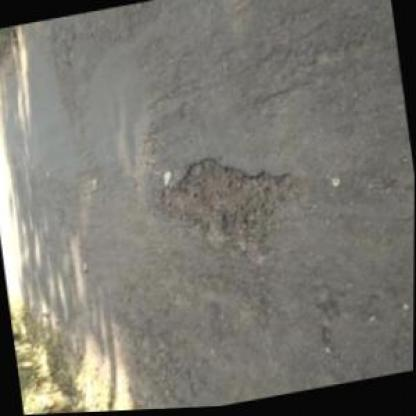pothole: (146, 139, 314, 283)
